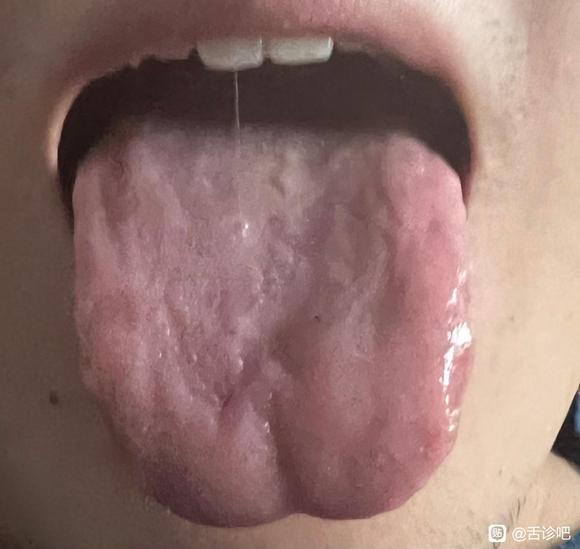baitaishe: (72, 91, 472, 528)
pangdashe: (72, 91, 472, 528)
xinfeiao: (217, 486, 360, 529)
